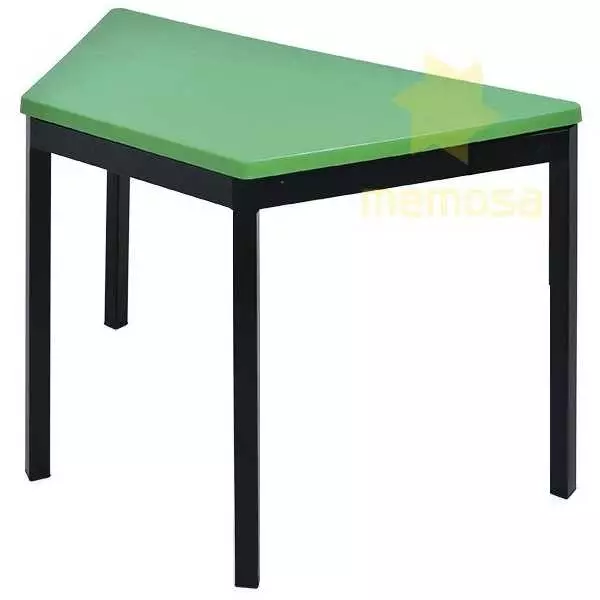m01: (18, 8, 584, 589)
